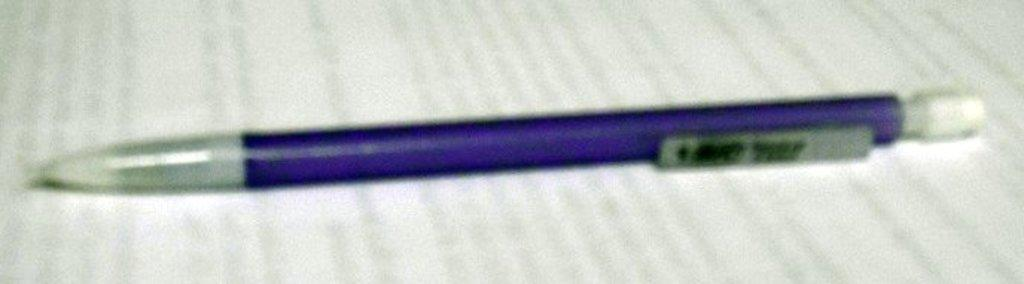pen: (28, 83, 984, 190)
